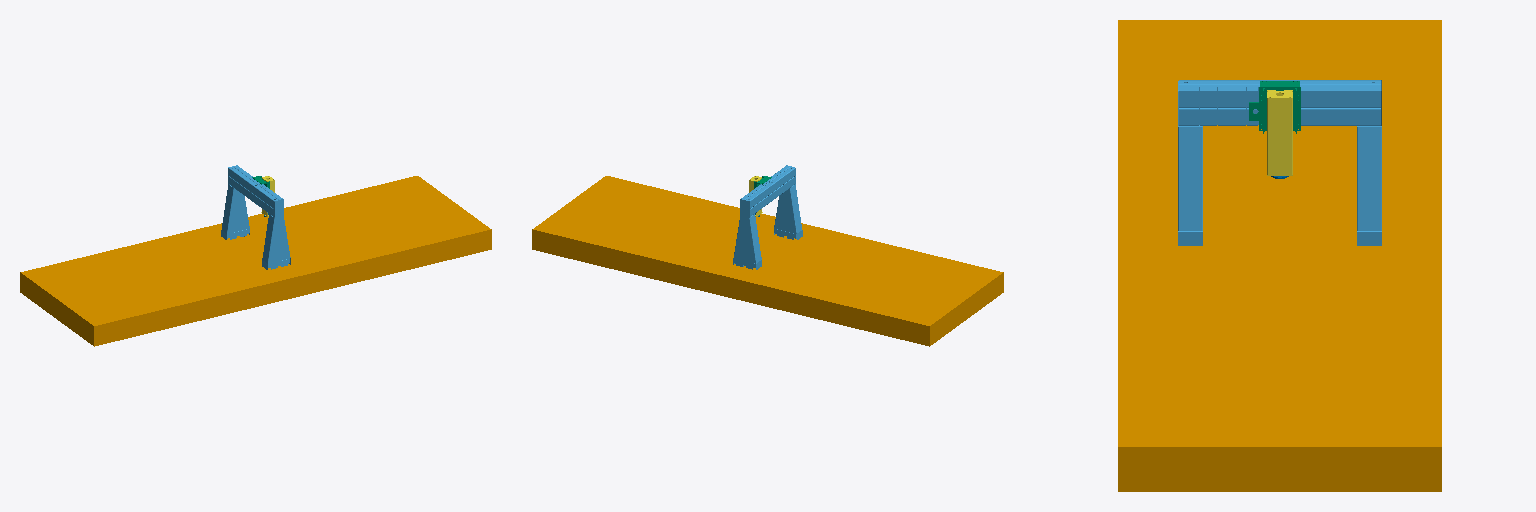
URDF robot description (TapePlacementGantry):
<?xml version="1.0" ?>
<robot name="TapePlacementGantry">
    <!-- Properties -->
    <material name="gantry_gray">
        <color rgba="0.4 0.4 0.4 1" />
    </material>
    <material name="gantry_organge">
        <color rgba="0.96 0.65 0.14 1" />
    </material>
    <material name="gantry_lightgreen">
        <color rgba="0.53 0.73 0.27 1.00" />
    </material>
    <material name="gantry_purple">
        <color rgba="0.61 0.45 0.37 1.00" />
    </material>
    <material name="gantry_deepblue">
        <color rgba="0.15 0.25 0.52 1.00" />
    </material>
    <!-- link list -->
    <link name="base_link">
        <visual>
            <geometry>
                <mesh filename="visual/base_link.stl" material_name="gantry_gray"/>
            </geometry>
        </visual>
    </link>
    <link name="link1">
        <visual>
            <geometry>
                <mesh filename="visual/link_1.stl" material_name="gantry_organge"/>
            </geometry>
        </visual>
    </link>
    <link name="link2">
        <visual>
            <geometry>
                <mesh filename="visual/link_2.stl" material_name="gantry_lightgreen"/>
            </geometry>
        </visual>
    </link>
    <link name="link3">
        <visual>
            <geometry>
                <mesh filename="visual/link_3.stl" material_name="gantry_purple"/>
            </geometry>
        </visual>
    </link>
    <link name="link4">
        <visual>
            <geometry>
                <mesh filename="visual/link_4.stl" material_name="gantry_deepblue"/>
            </geometry>
        </visual>
    </link>
    <link name="ee_link"/>
    <!-- end of link list -->
    <!-- joint list -->
    <joint name="joint1" type="prismatic">
        <parent link="base_link"/>
        <child link="link1"/>
        <origin xyz="0 0 1.225" rpy="0 0 0" />
        <axis xyz="1 0 0" />
        <limit lower="-11" upper="11" velocity="5"/>
    </joint>
    <joint name="joint2" type="prismatic">
        <parent link="link1"/>
        <child link="link2"/>
        <origin xyz="0.402 0 4.167" rpy="0 0 0" />
        <axis xyz="0 1 0" />
        <limit lower="-1.6" upper="1.6" velocity="5"/>
    </joint>
    <joint name="joint3" type="prismatic">
        <parent link="link2"/>
        <child link="link3"/>
        <origin xyz="0.599 0 0" rpy="0 0 0" />
        <axis xyz="0 0 1" />
        <limit lower="0" upper="0.8" velocity="5"/>
    </joint>
    <joint name="joint4" type="revolute">
        <parent link="link3"/>
        <child link="link4"/>
        <origin xyz="-0.25 0 -2.21" rpy="0 0 0" />
        <axis xyz="0 0 1" />
        <limit lower="-360" upper="360" velocity="180"/>
    </joint>
    <joint name="joint_4_t-tool0" type="fixed">
        <origin xyz="0 0 0" rpy="0 0 0"/>
        <parent link="link4"/>
        <child link="ee_link"/>
    </joint>
    <!-- end of joint list -->
    <tcp xyz="0 0 0" rpy="0 0 0"/>
</robot>

--- Facts derived from the render (not from the file) ---
Views: 3 orthographic renders of the robot side by side, from view 1: azimuth 30°, elevation 25°; view 2: azimuth 150°, elevation 25°; view 3: azimuth 270°, elevation 25°.
Model TapePlacementGantry with 6 links and 5 joints (1 revolute, 3 prismatic, 1 fixed), rooted at base_link, posed every joint at zero.
Links seen in each view (by area): view 1: base_link, link1; view 2: base_link, link1; view 3: base_link, link1, link3, link2.
Link boxes in pixels (bbox=[...]): base_link: bbox=[20, 176, 491, 346]; link1: bbox=[221, 165, 290, 269]; base_link: bbox=[532, 176, 1003, 346]; link1: bbox=[733, 165, 802, 269]; base_link: bbox=[1118, 20, 1441, 491]; link1: bbox=[1178, 80, 1381, 245]; link3: bbox=[1267, 90, 1292, 175]; link2: bbox=[1249, 81, 1300, 133].
Bounding box of the posed robot: 25.03 × 8.04 × 5.43 m (x, y, z).
5 mesh visuals loaded from 5 distinct referenced files (5 binary STL).